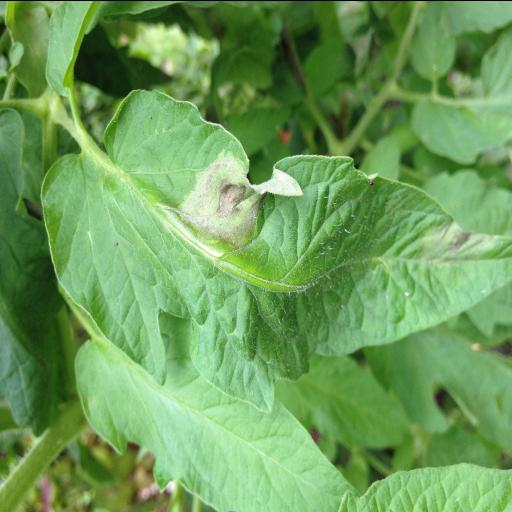Late Blight: (41, 78, 507, 402)
